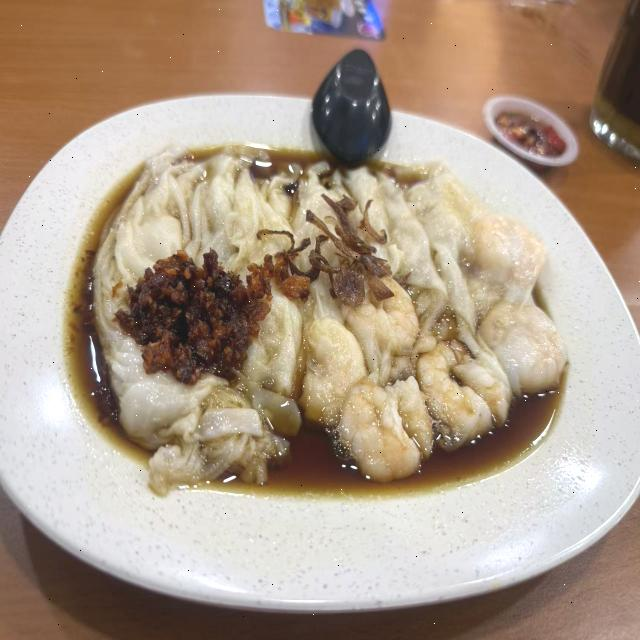Chee Cheong Fun: (21, 116, 615, 550)
